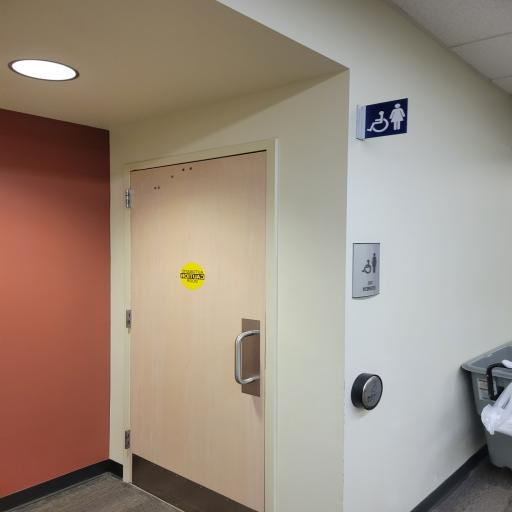door: (122, 135, 276, 512)
handicap push button: (347, 369, 387, 412)
women bathroom sign: (356, 97, 416, 138), (349, 238, 380, 302)
